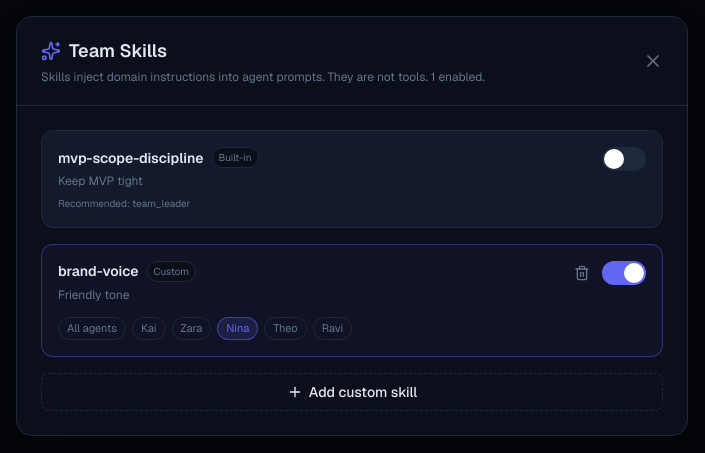
Test: SkillsPanel › deletes a custom skill
The width and height of the screenshot is (705, 453).
Click the button named "Delete brand-voice": coordinates (582, 273) [570, 261, 594, 285]
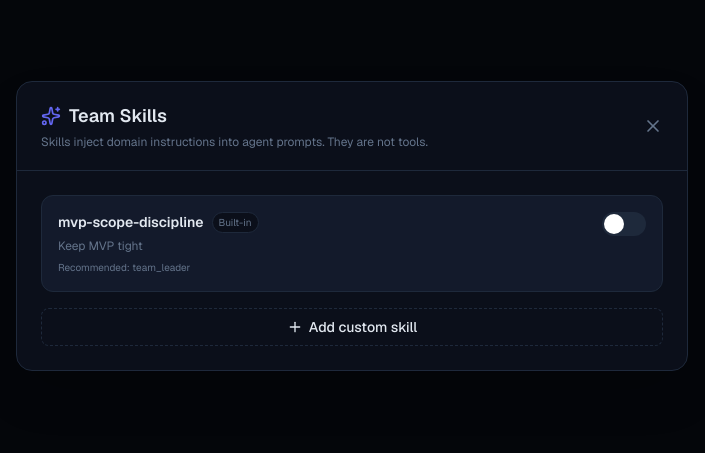
Check: the heading "brand-voice" is gone
